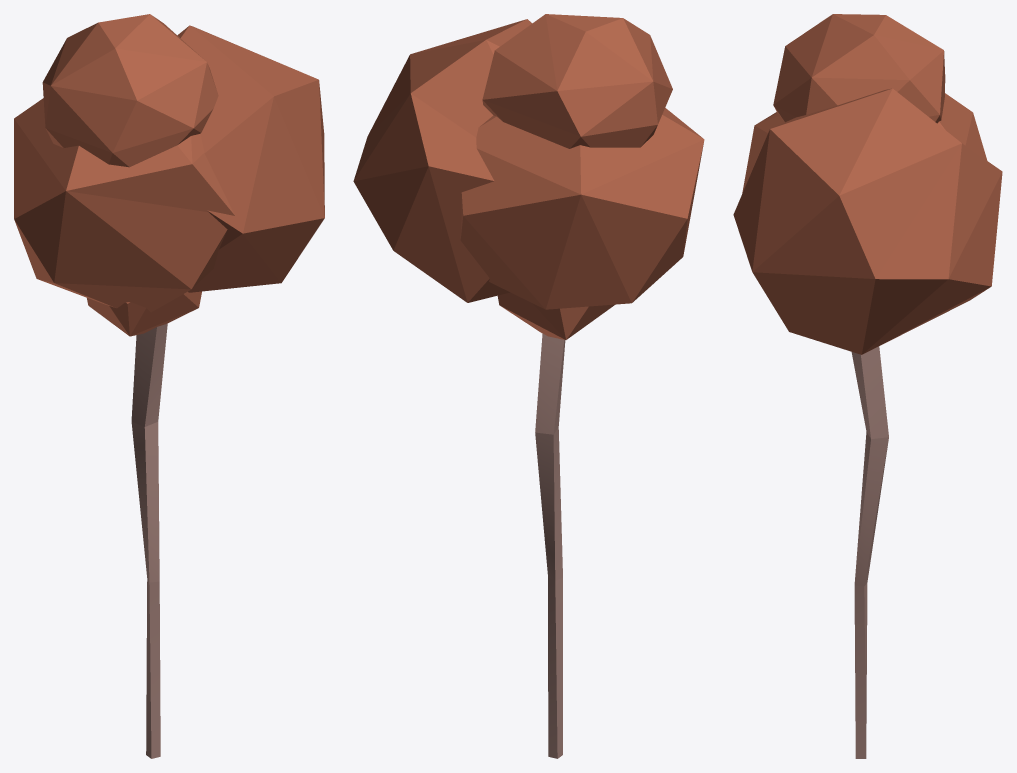
File: world_4_tree_2.dae
3 views of the same model, side by side, from view 1: azimuth 30°, elevation 25°; view 2: azimuth 150°, elevation 25°; view 3: azimuth 270°, elevation 25° (orthographic). The views are drawn at different scales.
Visible parts, largest first — view 1: world_4_tree_2_leaves, world_4_tree_2_base; view 2: world_4_tree_2_leaves, world_4_tree_2_base; view 3: world_4_tree_2_leaves, world_4_tree_2_base.
Part boxes in pixels (x1,y1,x2,y2): world_4_tree_2_leaves: (14,14,324,336); world_4_tree_2_base: (131,323,167,758); world_4_tree_2_leaves: (353,14,704,339); world_4_tree_2_base: (535,333,565,758); world_4_tree_2_leaves: (733,14,1002,354); world_4_tree_2_base: (851,346,888,758).
Size of the model in its own units: 2.64 by 2 by 5.94.
